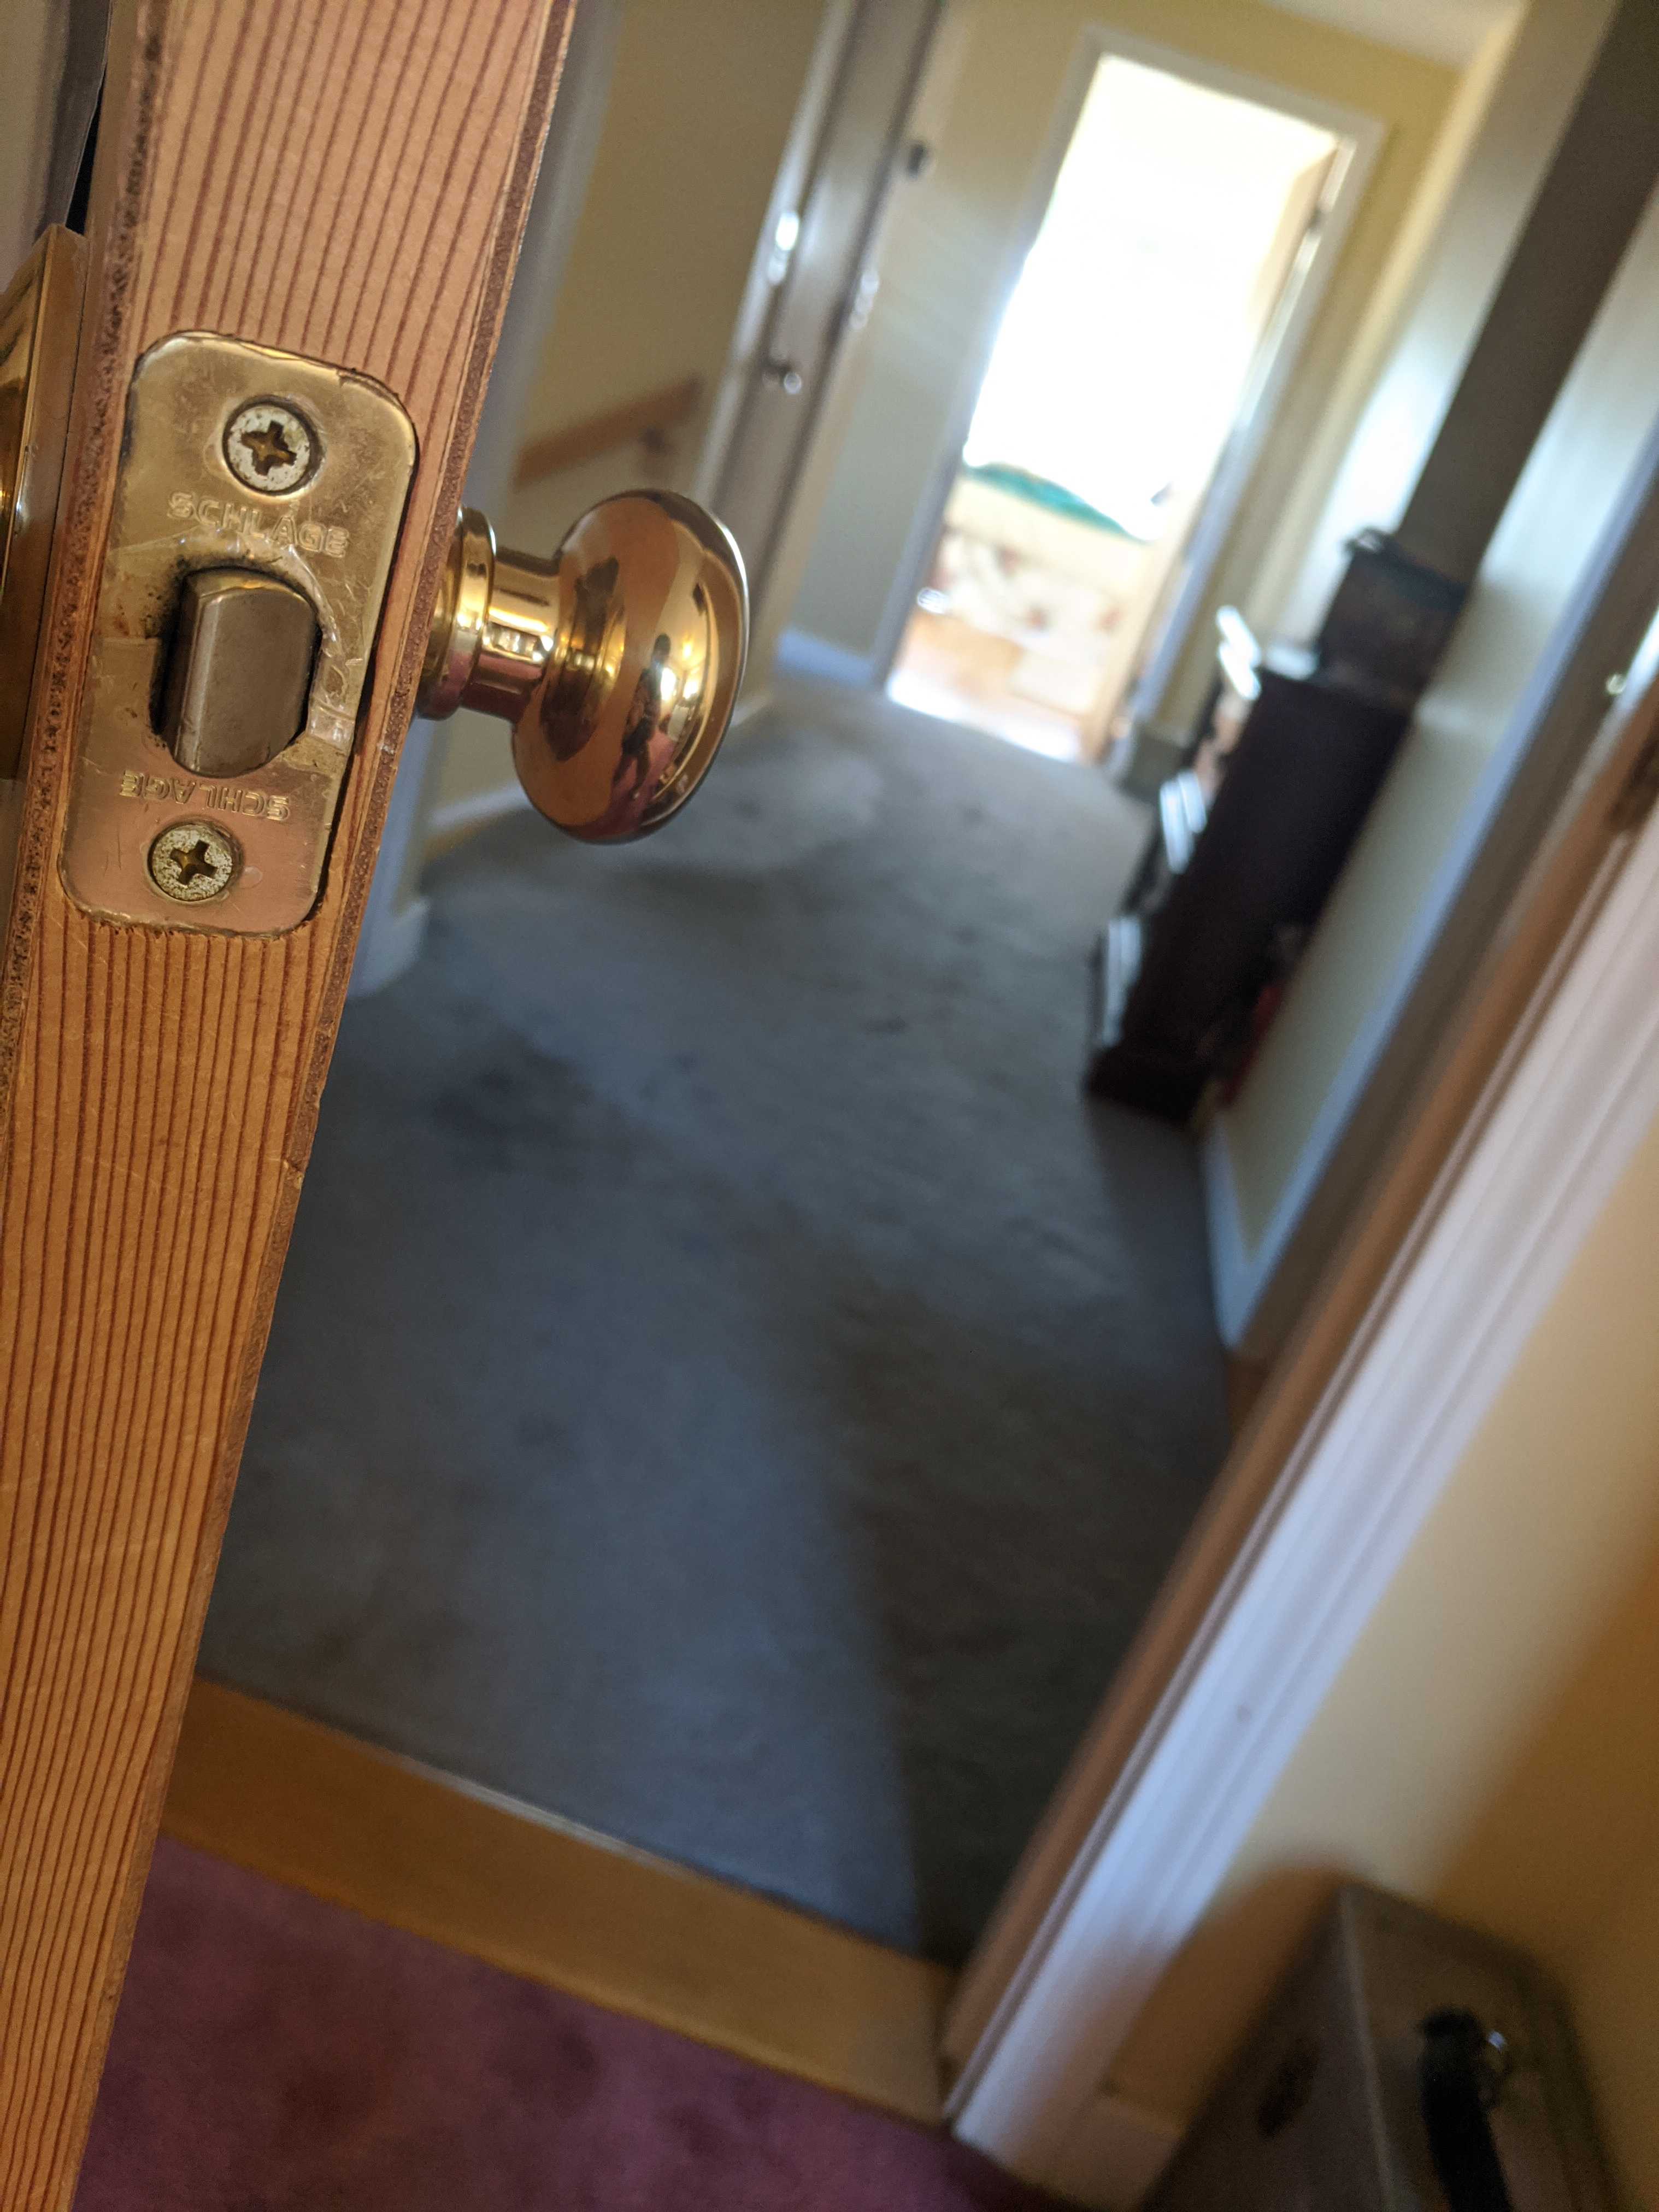cross_recessed_screw: (213, 385, 324, 496), (138, 808, 240, 907)
